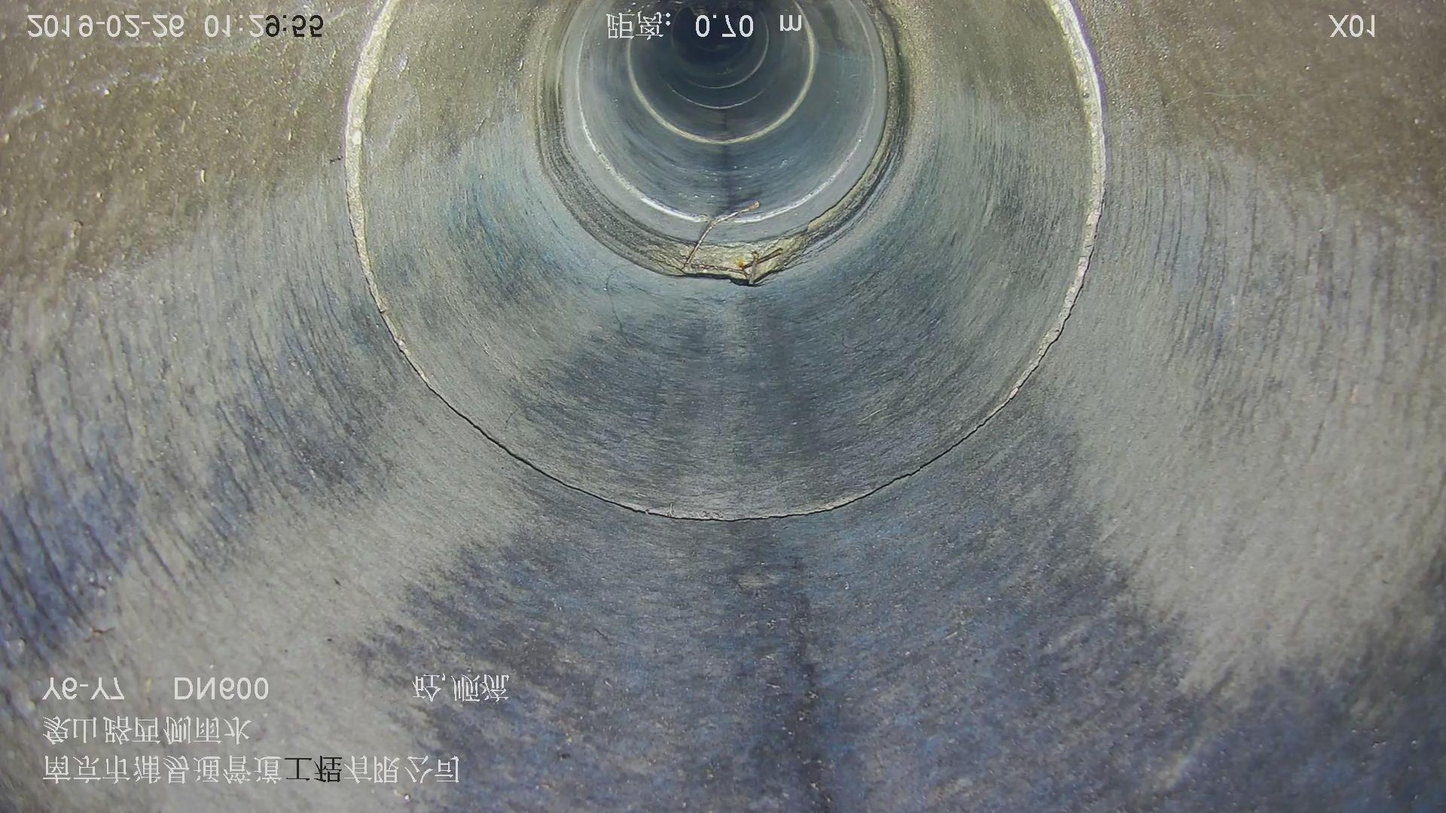CKTJ: (409, 1, 1108, 522), (343, 1, 450, 406)
JKCL: (678, 200, 816, 285)
